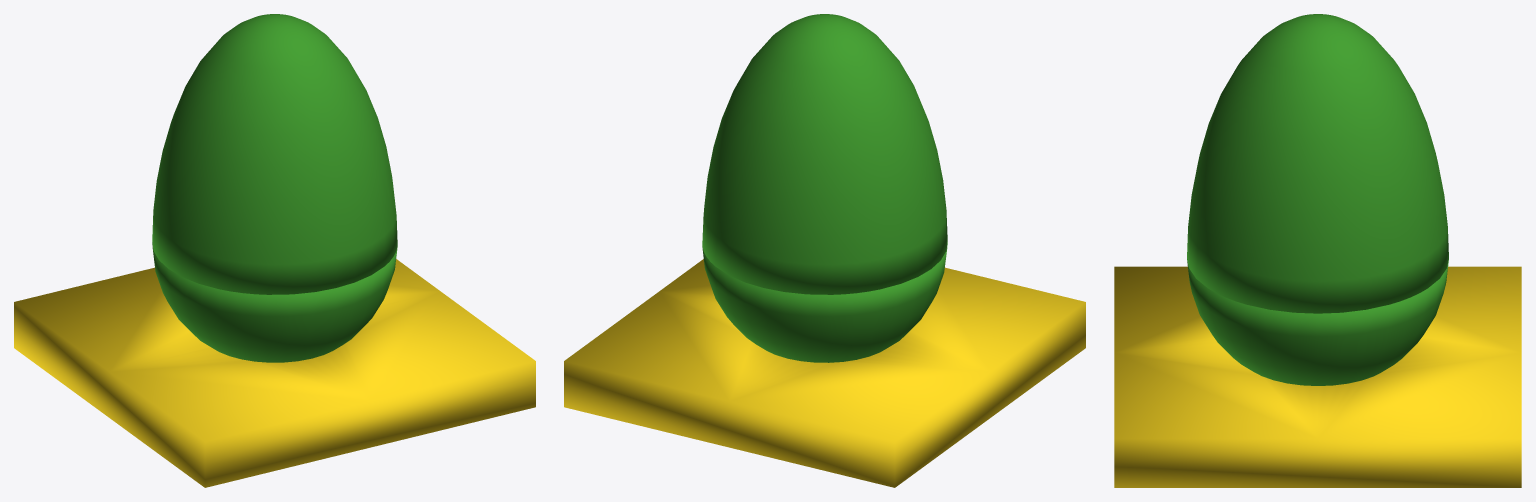
File: egg_1.glb
The picture shows the model from 3 angles, left to right: view 1: azimuth 30°, elevation 25°; view 2: azimuth 150°, elevation 25°; view 3: azimuth 270°, elevation 25°; orthographic projection. The views are drawn at different scales.
Visible parts, largest first — view 1: figura, basetta; view 2: figura, basetta; view 3: figura, basetta.
Part boxes in pixels (<box>): figura: <box>152,14,397,362</box>; basetta: <box>14,259,535,487</box>; figura: <box>702,14,947,362</box>; basetta: <box>564,259,1085,487</box>; figura: <box>1187,14,1448,385</box>; basetta: <box>1114,266,1521,487</box>.
Bounding box in the file's own units: 0.015 × 0.0155 × 0.015.
